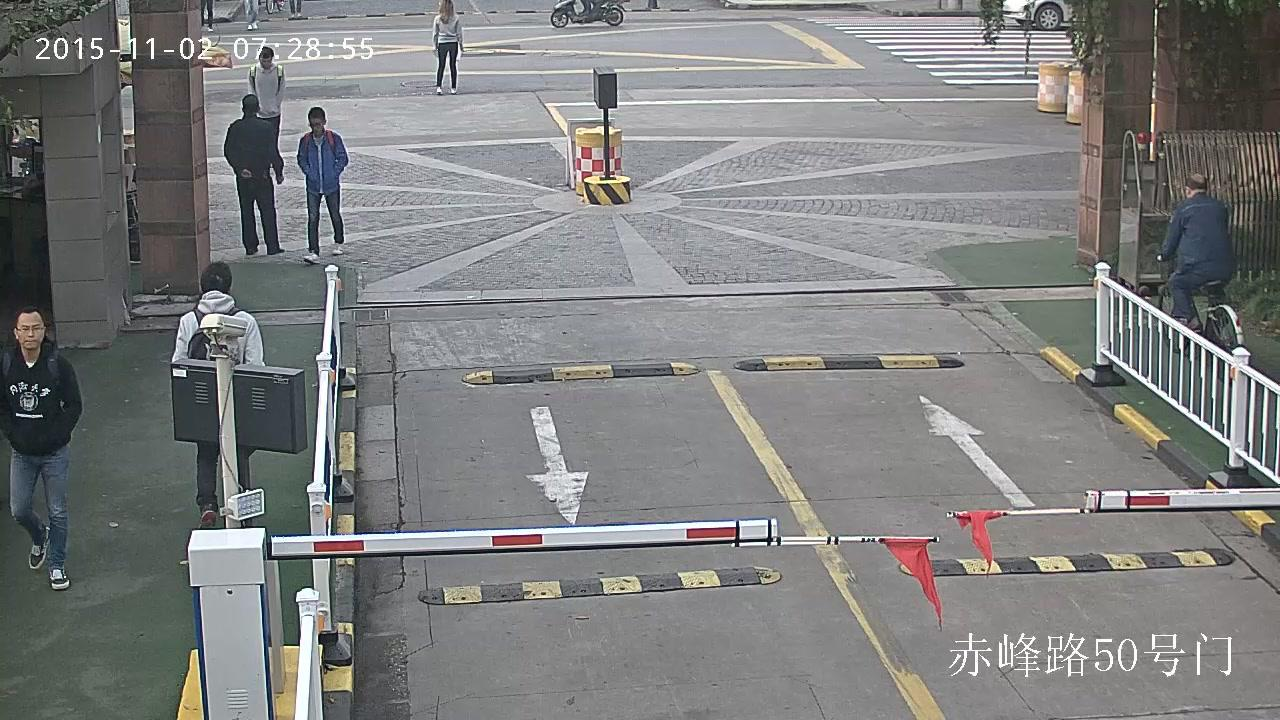face: (17, 312, 43, 349), (309, 116, 323, 133), (260, 56, 271, 69)
